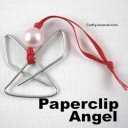Metal: (1, 23, 69, 108)
